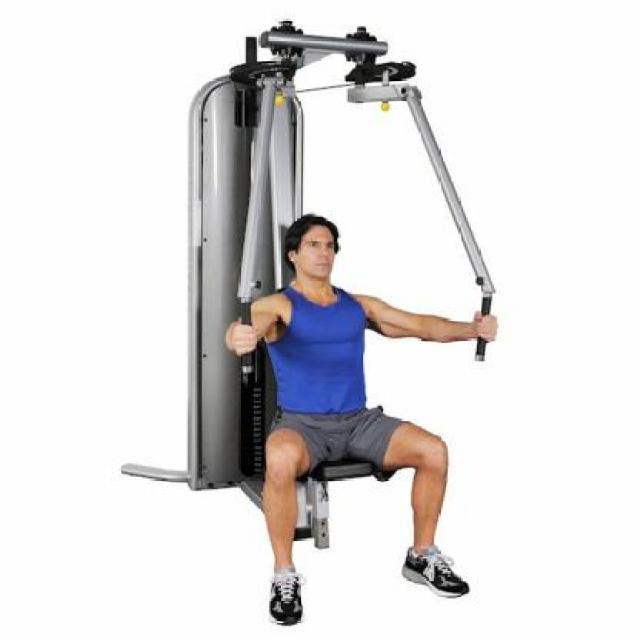chest fly machine: (118, 8, 524, 630)
